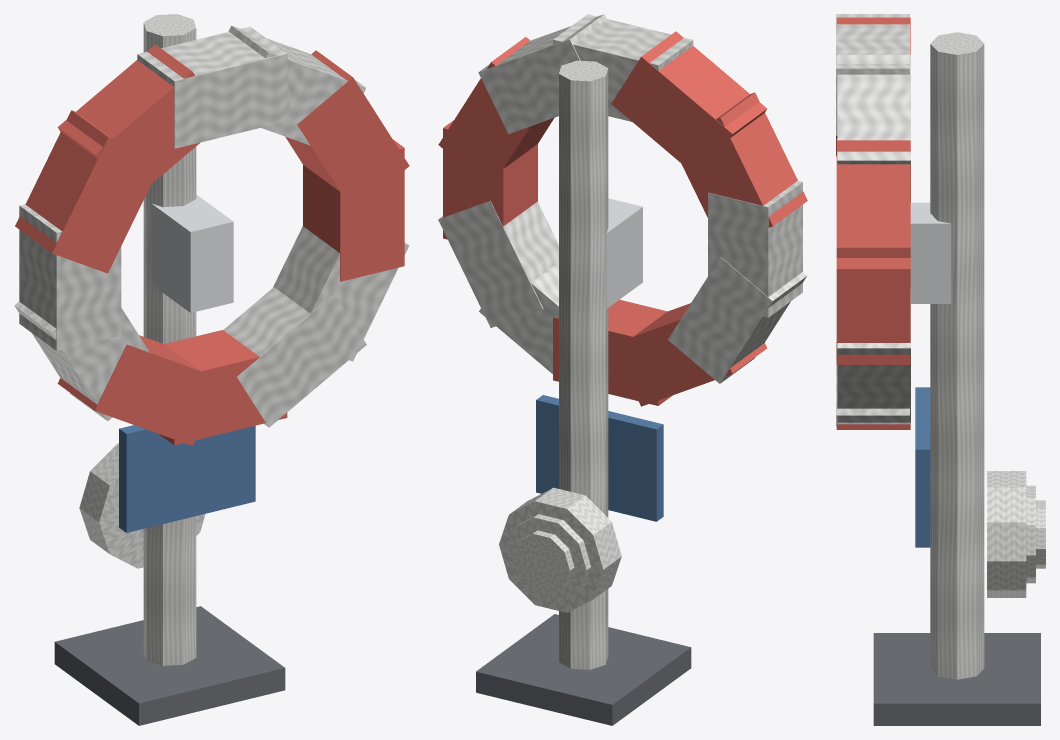
Rendered from cruise-ship-deck-and-lounge-cruise-ship-deck-and-loung-e5791c54.glb.
3 views of the same model, side by side, from view 1: azimuth 30°, elevation 25°; view 2: azimuth 150°, elevation 25°; view 3: azimuth 270°, elevation 25° (orthographic). The views are drawn at different scales.
Visible parts, largest first — view 1: cruise-ship-deck-and-lounge-life-ring-post; view 2: cruise-ship-deck-and-lounge-life-ring-post; view 3: cruise-ship-deck-and-lounge-life-ring-post.
Boxes of the visible parts, x1,y1,x2,y2 form: cruise-ship-deck-and-lounge-life-ring-post: [14, 14, 409, 725]; cruise-ship-deck-and-lounge-life-ring-post: [438, 14, 807, 725]; cruise-ship-deck-and-lounge-life-ring-post: [836, 14, 1045, 725].
Bounding box in the file's own units: 0.8329 × 1.47 × 0.4263.
5 materials, 1 textured.
